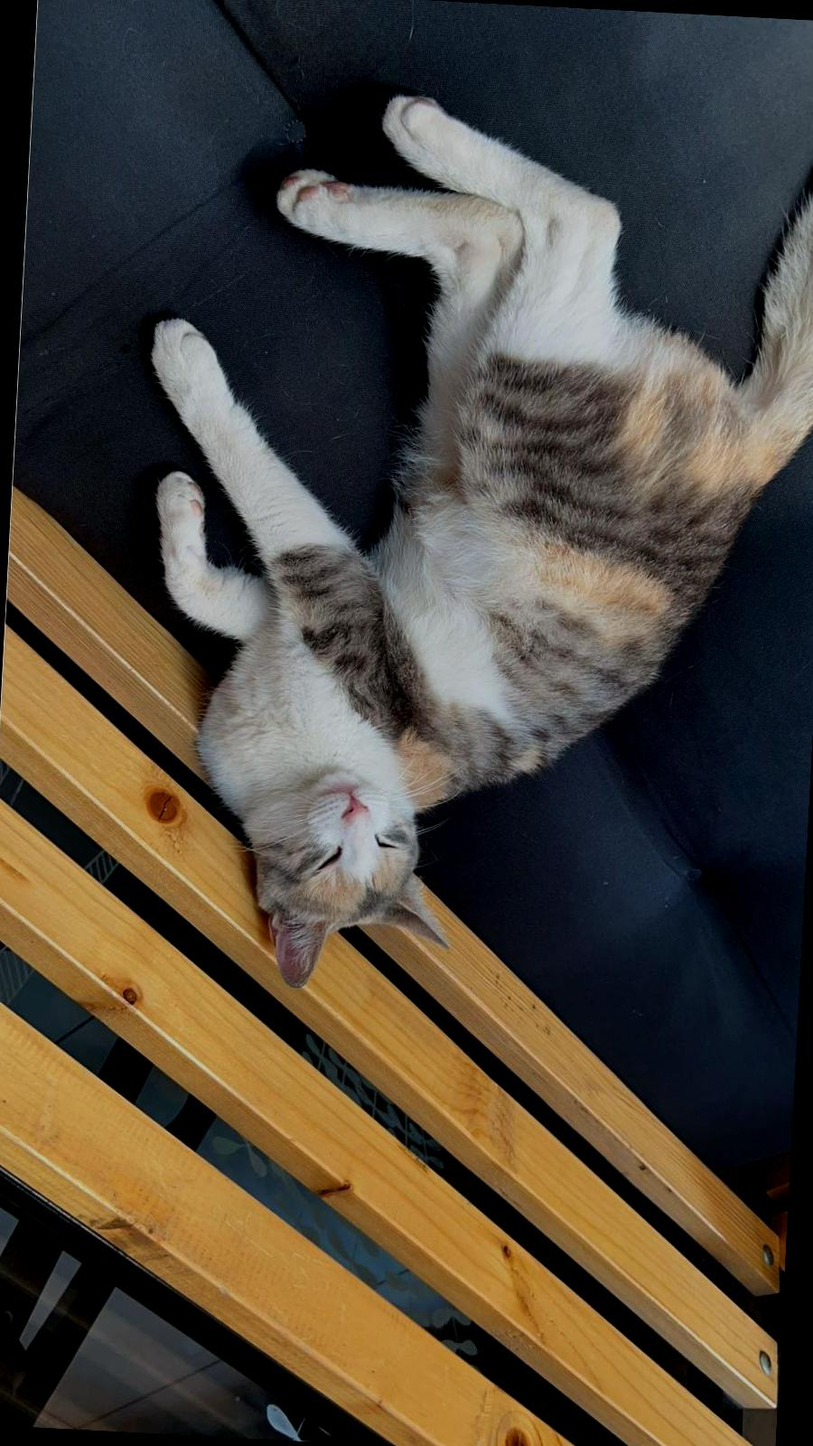macka: (117, 80, 813, 1016)
